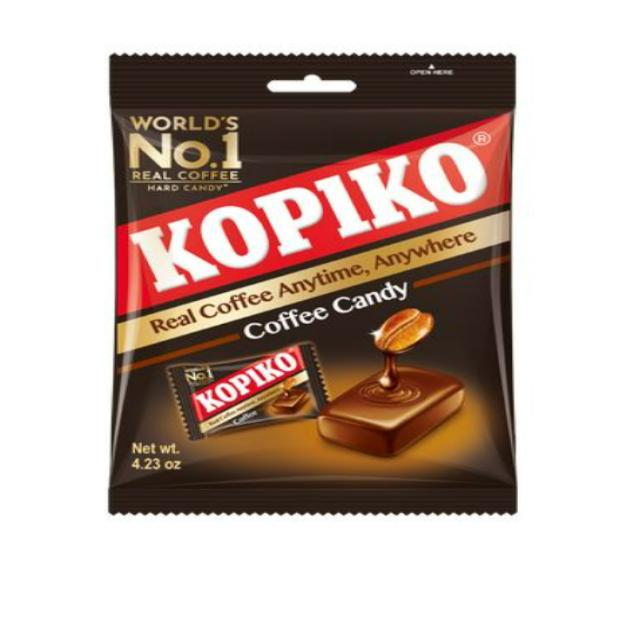KemasanPlastik: (107, 52, 517, 515)
